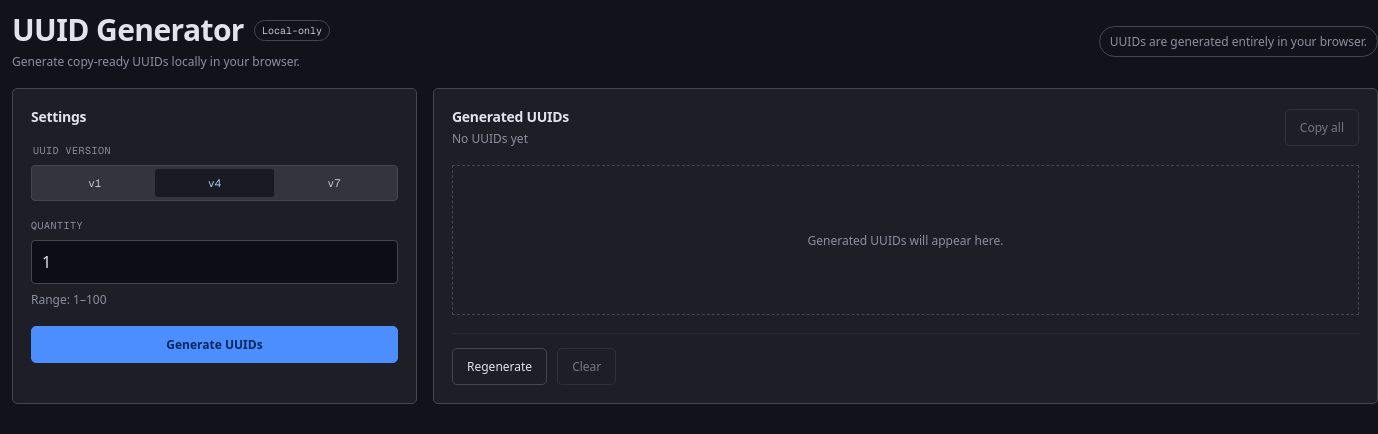
Test case: UUID Generator - Level 2 realistic/intermediate › keeps existing results visible when invalid quantity is submitted
Click the button "Generate UUIDs" at [214, 344], box [31,326,398,363]
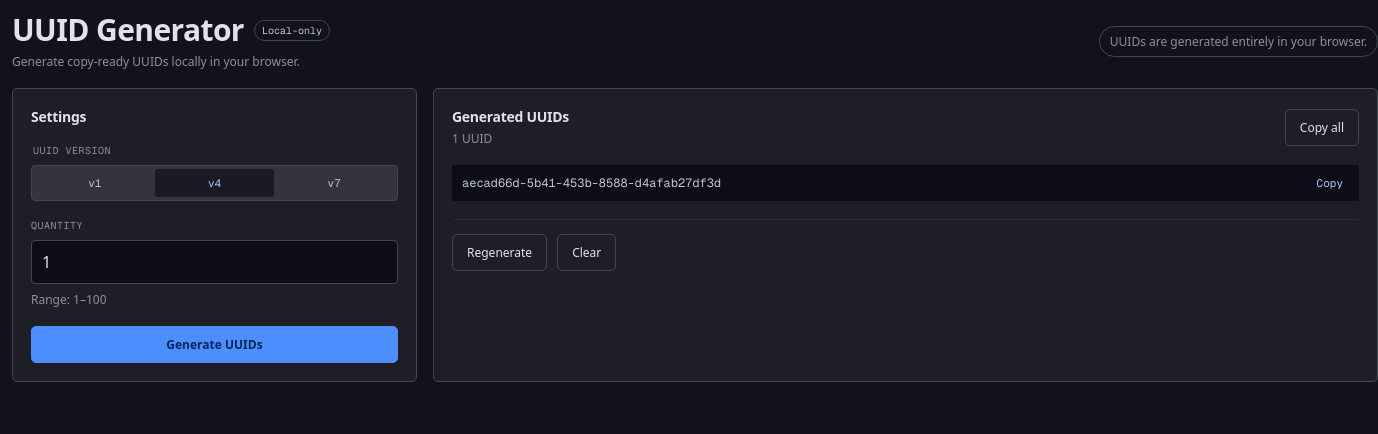
Replace the text in the field labelled "Quantity" with "0" at [214, 262], box [31,240,398,284]
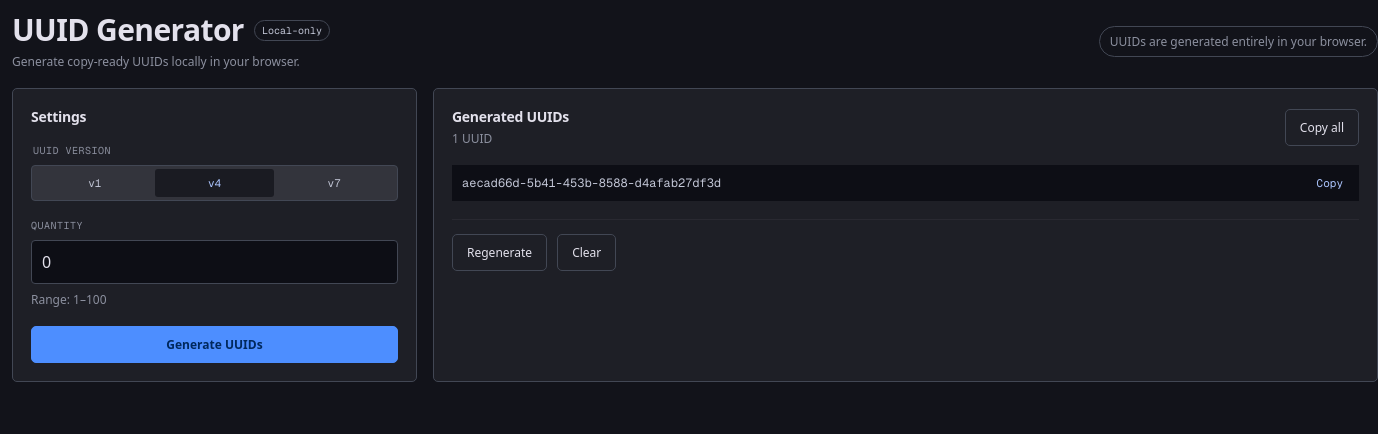
Click the button "Generate UUIDs" at [214, 344], box [31,326,398,363]
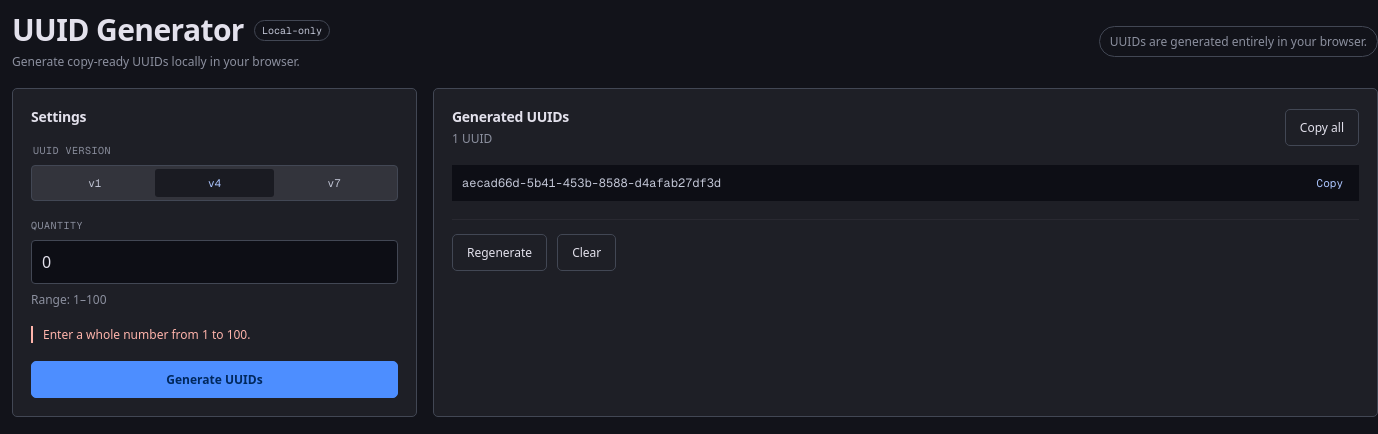
Expected: the text "1 UUID" is shown, [452,130,492,147]
Expected: the message reads "Enter a whole number from 1 to 100.", [43,326,250,343]
